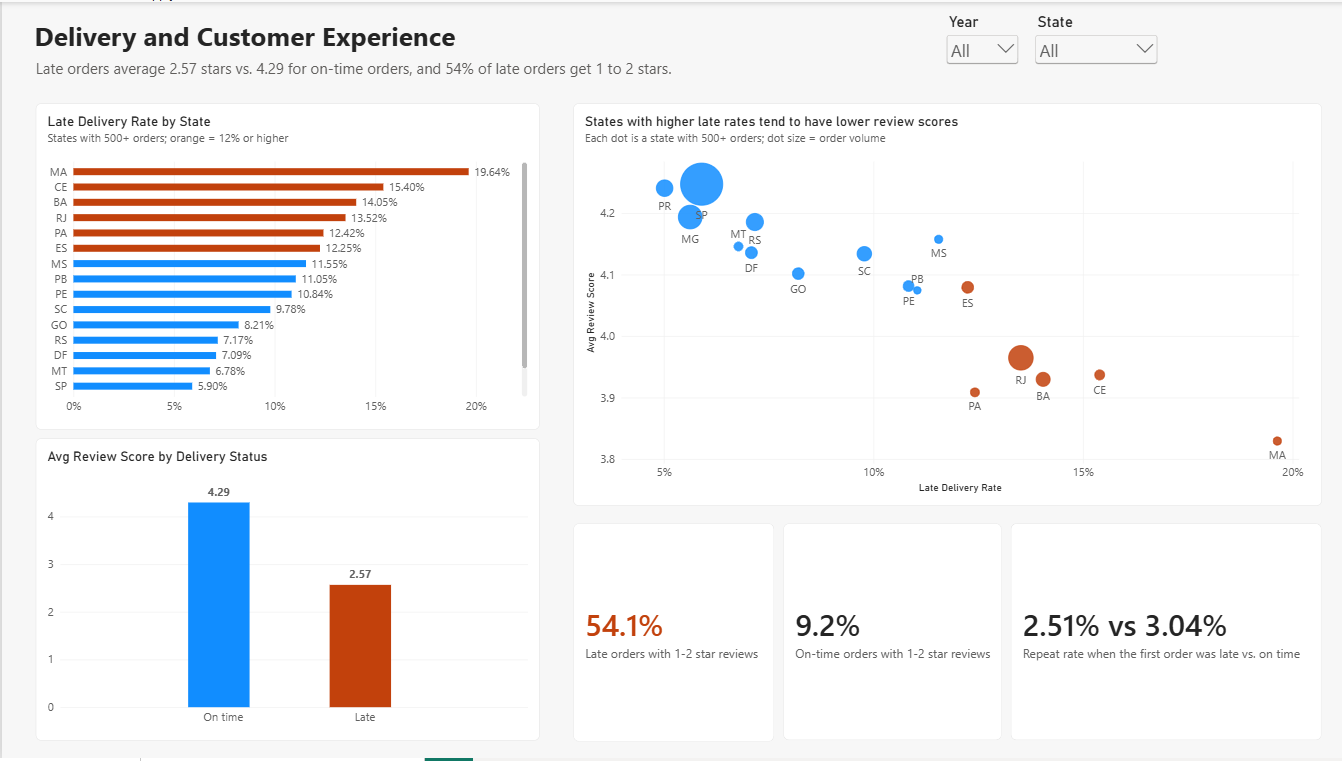

Layout of this report page (visuals, bound fields, positions):
{"tool":"powerbi","page":{"name":"Delivery and Customer Experience ","canvas":[1920,1080],"ordinal":1},"visuals":[{"type":"clusteredColumnChart","title":"Avg Review Score by Delivery Status","fields":{"Category":["orders_fact.Delivery Status"],"Y":["orders_fact.Avg Review Score"]},"box":[48,624,720,432],"z":0},{"type":"scatterChart","title":"States with higher late rates tend to have lower review scores","fields":{"Category":["orders_fact.state"],"Size":["orders_fact.Orders"],"X":["orders_fact.Late Delivery Rate"],"Y":["orders_fact.Avg Review Score"]},"box":[816.1,144.6,1069.6,575],"z":1000},{"type":"clusteredBarChart","title":"Late Delivery Rate by State","fields":{"Category":["orders_fact.state"],"Y":["orders_fact.Late Delivery Rate"]},"box":[48.2,144.6,719.6,466.1],"z":2000},{"type":"slicer","fields":{"Values":["Calendar.Year"]},"box":[1344,16,112,112],"z":3000},{"type":"slicer","fields":{"Values":["orders_fact.state"]},"box":[1472,16,184,360],"z":4000},{"type":"textbox","box":[46.8,23.4,1055.5,66.6],"z":5000},{"type":"textbox","box":[48,80,1055.5,124.3],"z":6000},{"type":"cardVisual","fields":{"Data":["orders_fact.Low Review % Late"]},"box":[816.1,744.6,287.5,312.5],"z":7000},{"type":"cardVisual","fields":{"Data":["orders_fact.Low Review % On Time"]},"box":[1116.1,744.6,312.5,310.7],"z":8000},{"type":"cardVisual","fields":{"Data":["orders_fact.Repeat Rate Comparison"]},"box":[1441.1,744.6,444.6,310.7],"z":9000}]}

Visuals, with their boxes in screenshot pixels (x1, y1, x2, y2), scaled from the page's 1920x1080 canvas onto the 1342x761 screenshot:
"Avg Review Score by Delivery Status" clusteredColumnChart: BBox(34, 440, 537, 744)
"States with higher late rates tend to have lower review scores" scatterChart: BBox(570, 102, 1318, 507)
"Late Delivery Rate by State" clusteredBarChart: BBox(34, 102, 537, 430)
slicer - Calendar.Year: BBox(939, 11, 1018, 90)
slicer - orders_fact.state: BBox(1029, 11, 1157, 265)
textbox: BBox(33, 16, 770, 63)
textbox: BBox(34, 56, 771, 144)
cardVisual - orders_fact.Low Review % Late: BBox(570, 525, 771, 745)
cardVisual - orders_fact.Low Review % On Time: BBox(780, 525, 999, 744)
cardVisual - orders_fact.Repeat Rate Comparison: BBox(1007, 525, 1318, 744)
